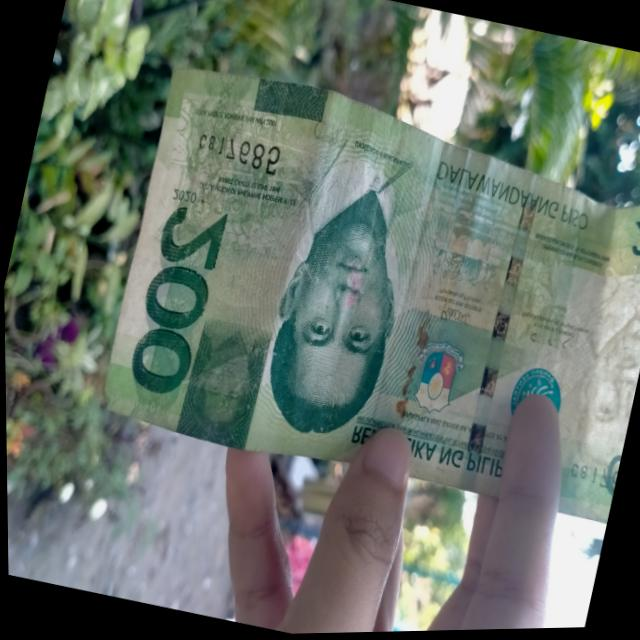concealed_value: (174, 314, 274, 453)
security_thread: (452, 166, 550, 500)
serial_number: (190, 124, 287, 180)
value: (121, 197, 234, 408)
watermark: (549, 258, 640, 474)
